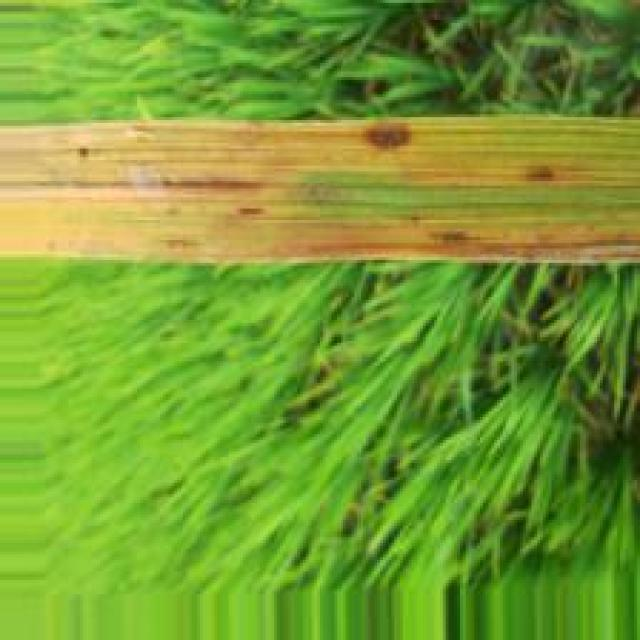Leaf_Blast: (0, 121, 638, 263)
